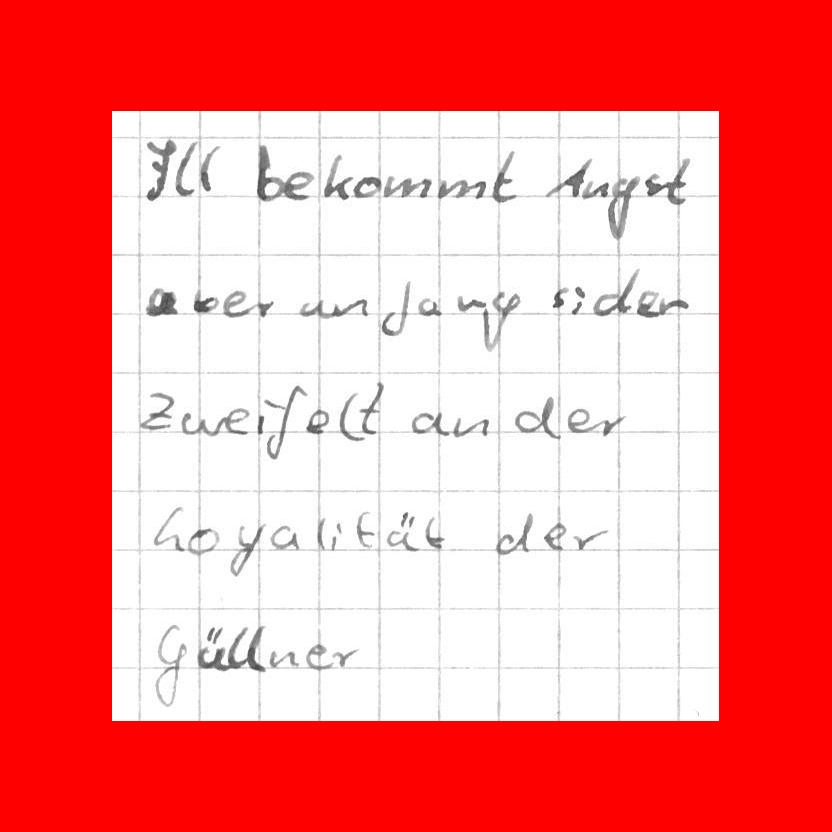Char: (150, 623, 185, 708), (479, 288, 521, 352), (590, 266, 640, 317), (274, 382, 307, 459), (142, 134, 177, 203), (227, 521, 268, 578), (513, 393, 561, 440), (607, 172, 640, 240), (542, 155, 592, 199), (252, 139, 285, 202), (488, 146, 522, 205), (379, 277, 413, 335), (134, 387, 176, 433), (493, 510, 535, 555), (152, 505, 186, 554), (358, 379, 386, 436), (321, 152, 353, 200), (173, 139, 199, 198), (383, 510, 419, 551), (195, 625, 225, 672), (382, 173, 432, 201), (664, 154, 691, 205), (180, 408, 225, 437), (408, 409, 452, 438), (438, 175, 487, 201), (142, 284, 179, 318), (244, 624, 268, 673), (337, 390, 360, 441), (266, 520, 302, 552), (225, 624, 249, 671), (186, 525, 221, 556), (199, 143, 221, 192), (221, 285, 249, 320), (352, 509, 377, 548), (283, 167, 312, 200), (571, 526, 609, 551), (451, 414, 490, 438), (303, 640, 334, 670), (297, 294, 333, 319), (541, 519, 568, 552), (190, 284, 218, 315), (331, 294, 367, 317), (424, 513, 446, 550), (222, 405, 250, 434), (351, 172, 381, 199), (268, 647, 301, 671), (303, 406, 330, 435), (595, 413, 626, 438), (255, 391, 272, 436), (580, 176, 609, 202), (634, 288, 660, 317), (565, 405, 591, 434), (655, 296, 691, 315), (331, 644, 358, 668), (455, 292, 485, 312), (416, 294, 443, 316), (643, 170, 665, 196), (569, 283, 586, 315), (549, 285, 570, 308), (255, 295, 276, 318), (329, 520, 343, 552), (314, 517, 327, 551)
